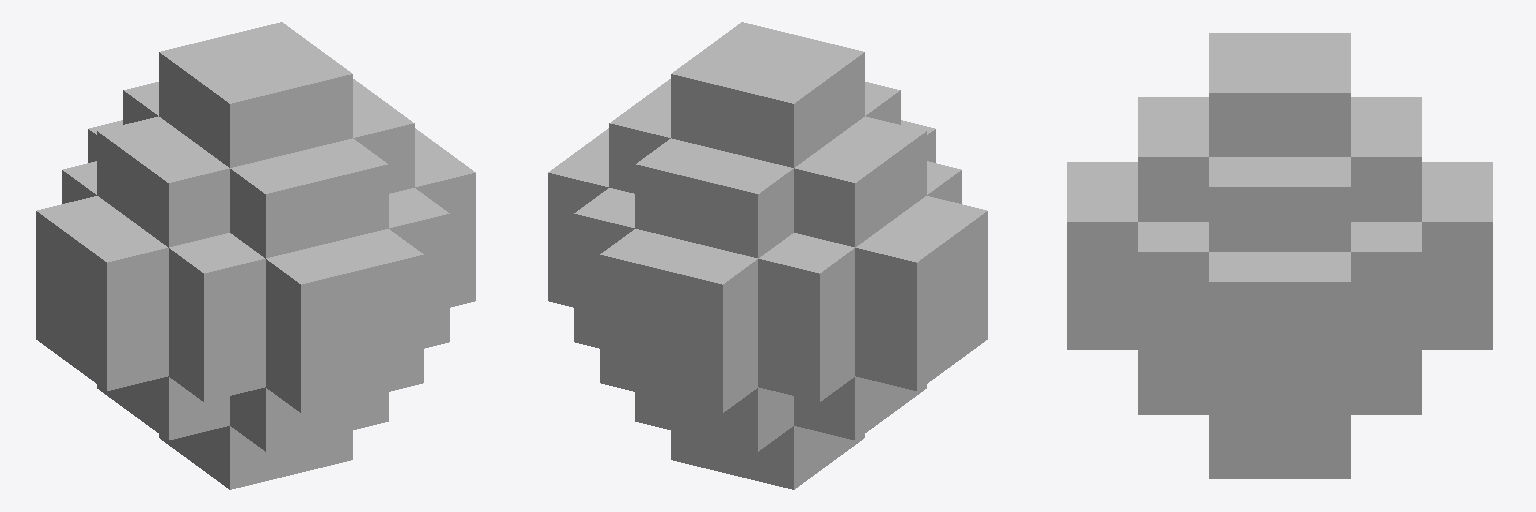
File: orb.obj
The picture shows the model from 3 angles: view 1: azimuth 30°, elevation 25°; view 2: azimuth 150°, elevation 25°; view 3: azimuth 270°, elevation 25°; orthographic projection.
Size of the model in its own units: 6 by 6 by 6.